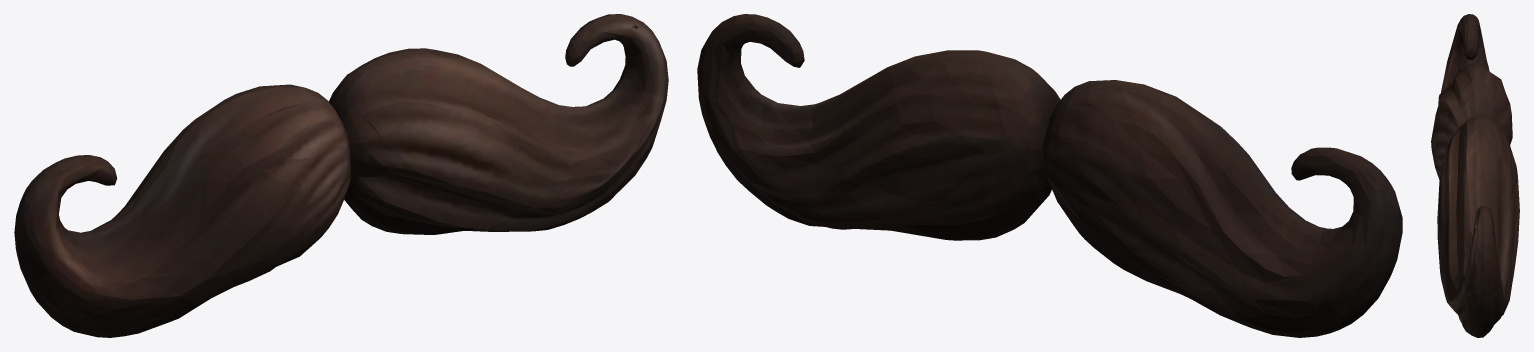
Rendered from fancy_handlebar_mustache.glb.
The picture shows the model from 3 angles, left to right: view 1: azimuth 30°, elevation 25°; view 2: azimuth 150°, elevation 25°; view 3: azimuth 270°, elevation 25°; orthographic projection. The views are drawn at different scales.
Parts seen in each view (by area): view 1: geometry_0; view 2: geometry_0; view 3: geometry_0.
Part boxes in pixels (<box>): geometry_0: <box>14,14,668,337</box>; geometry_0: <box>697,14,1402,337</box>; geometry_0: <box>1431,14,1519,337</box>.
Bounding box in the file's own units: 0.52 × 0.1567 × 0.084.
Materials: 1 (1 with a texture image).
